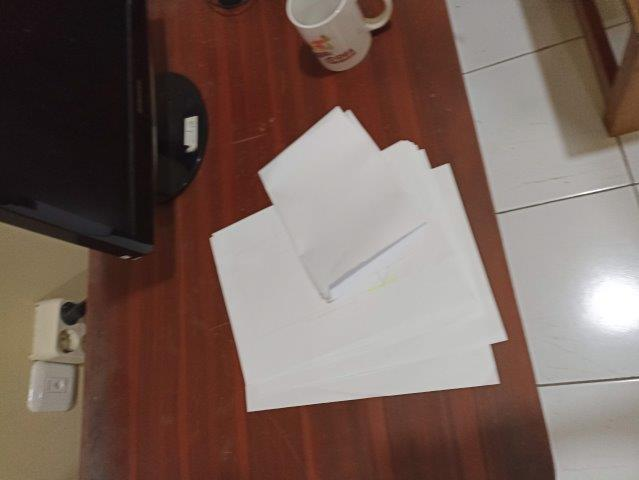kertas: (209, 106, 508, 412)
